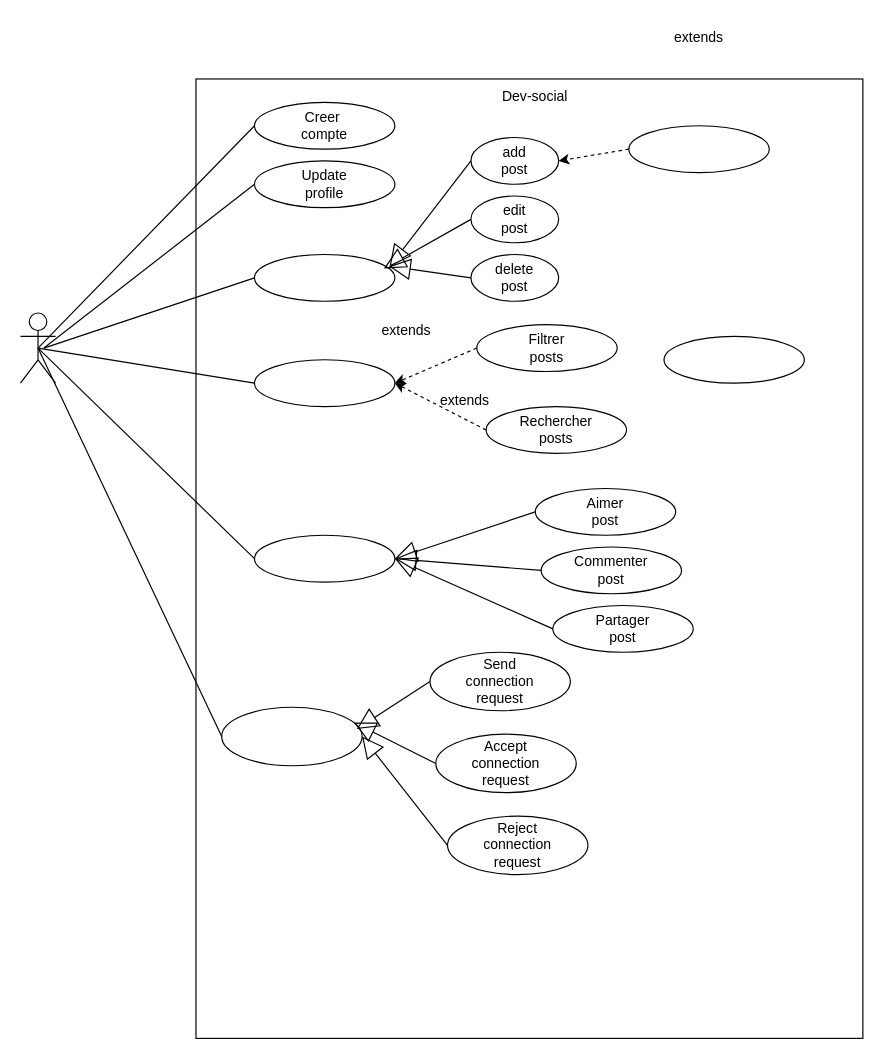
Some shapes in this 883 by 1059 pixel diagram are drawn without their labels. Each missing label, with the centre of its shape:
"Ajouter hashtags" goes at point (698, 149).
"Authentifier" goes at point (733, 359).
"Decouvrir posts" goes at point (324, 383).
"Gerer connexions" goes at point (291, 736).
"Gerer post" goes at point (324, 277).
"Interaction avec post" goes at point (324, 558).
"user" goes at point (37, 347).
